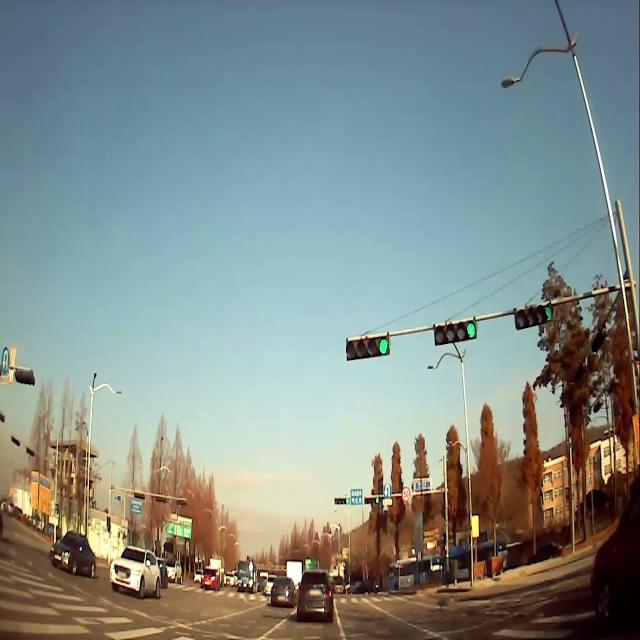Green Light: (465, 318, 477, 340), (378, 337, 388, 354), (545, 303, 552, 322), (345, 497, 349, 505), (375, 496, 379, 504)
